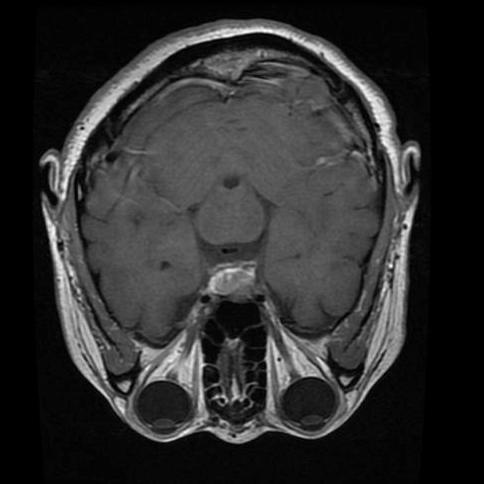Tumour-Pituitary: (199, 262, 267, 306)
